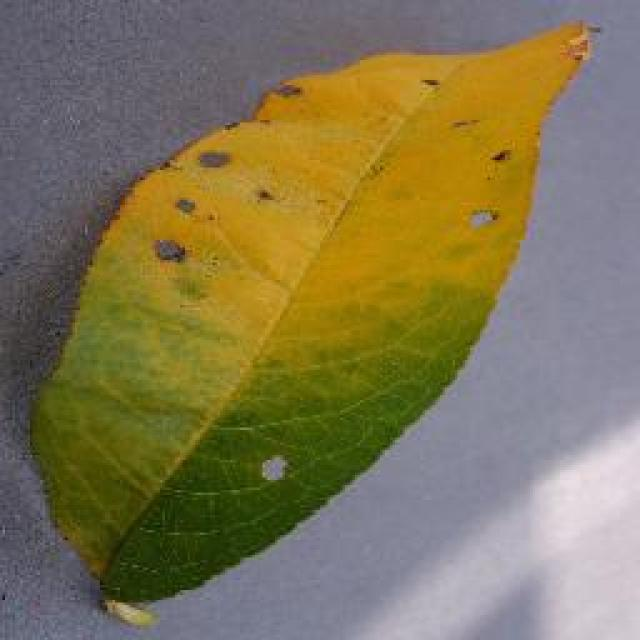Pea_Bacterial_spot: (138, 93, 308, 305)
